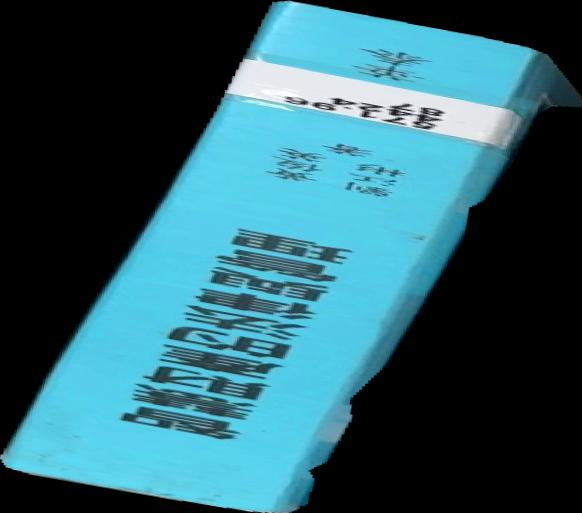reverse: (1, 1, 582, 513)
